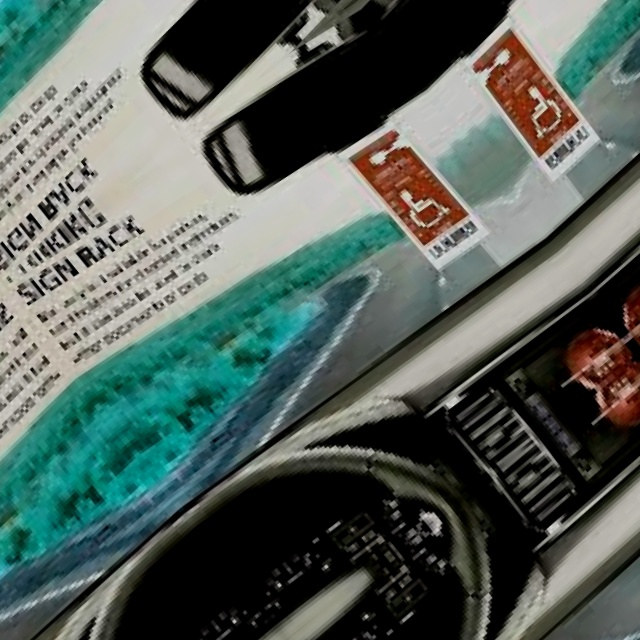ISA: (503, 71, 577, 147), (384, 167, 458, 242)
